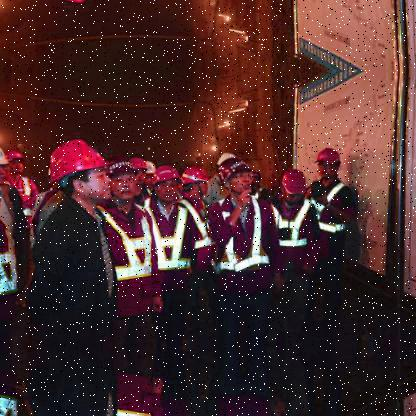Helmet: (41, 136, 116, 208), (213, 153, 262, 204), (102, 154, 142, 208), (304, 145, 349, 187), (277, 167, 315, 211), (147, 162, 181, 207), (178, 164, 214, 205), (4, 146, 30, 180)
